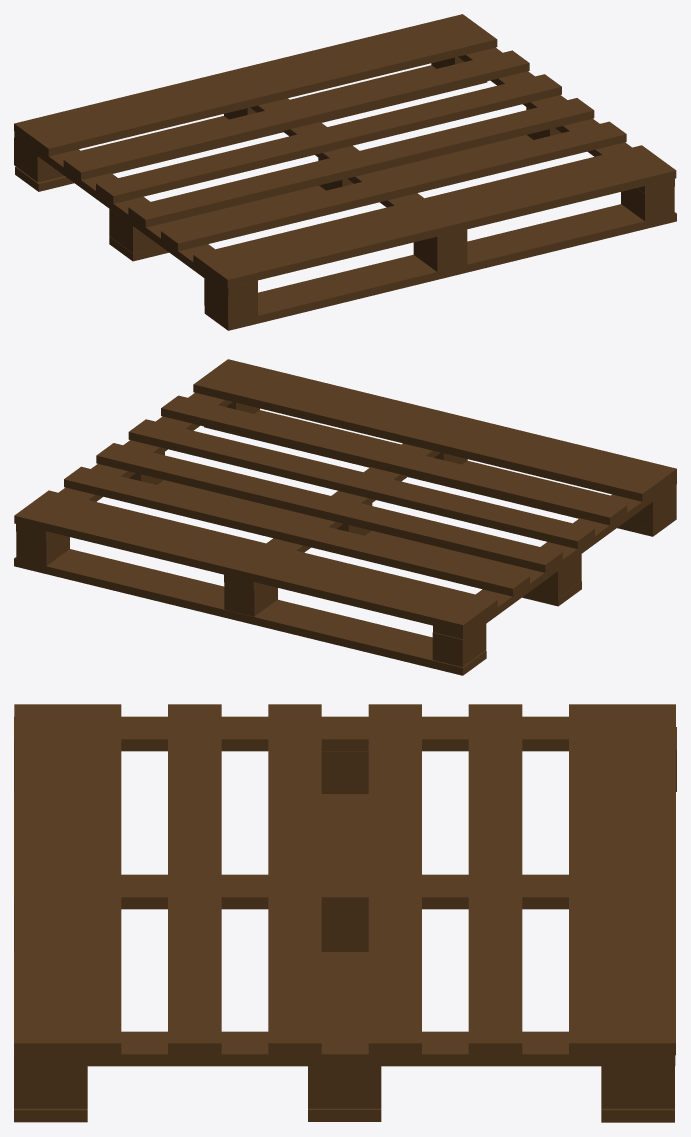
Rendered from pallet.glb.
The picture shows the model from 3 angles, top to bottom: view 1: azimuth 30°, elevation 25°; view 2: azimuth 150°, elevation 25°; view 3: azimuth 270°, elevation 25°; orthographic projection. The views are drawn at different scales.
Visible parts, largest first — view 1: Cube.009, Cube.006, Cube.001, Cube.005, Cube.003, Cube.004, Cube.002, Cube, Cube.007, Cube.008, Cube.022, Cube.010 (+7 smaller); view 2: Cube.022, Cube, Cube.003, Cube.007, Cube.002, Cube.004, Cube.005, Cube.006, Cube.001, Cube.008, Cube.009, Cube.010 (+7 smaller); view 3: Cube.005, Cube.001, Cube.002, Cube.003, Cube.007, Cube, Cube.004, Cube.006, Cube.012, Cube.010, Cube.008, Cube.011 (+7 smaller).
Part boxes in pixels (x1=…): Cube.009: x1=204, y1=204, x2=676, y2=330; Cube.006: x1=31, y1=27, x2=497, y2=156; Cube.001: x1=210, y1=158, x2=676, y2=287; Cube.005: x1=63, y1=50, x2=529, y2=180; Cube.003: x1=128, y1=98, x2=594, y2=227; Cube.004: x1=96, y1=74, x2=561, y2=203; Cube.002: x1=161, y1=121, x2=626, y2=251; Cube: x1=193, y1=145, x2=658, y2=274; Cube.007: x1=14, y1=14, x2=479, y2=143; Cube.008: x1=14, y1=132, x2=257, y2=295; Cube.022: x1=15, y1=65, x2=487, y2=191; Cube.010: x1=109, y1=135, x2=532, y2=261; Cube.022: x1=14, y1=549, x2=486, y2=675; Cube: x1=193, y1=372, x2=659, y2=501; Cube.003: x1=128, y1=419, x2=594, y2=548; Cube.007: x1=14, y1=503, x2=480, y2=632; Cube.002: x1=161, y1=395, x2=627, y2=525; Cube.004: x1=96, y1=443, x2=562, y2=572; Cube.005: x1=64, y1=466, x2=529, y2=596; Cube.006: x1=32, y1=490, x2=497, y2=619; Cube.001: x1=211, y1=359, x2=676, y2=488; Cube.008: x1=433, y1=477, x2=676, y2=640; Cube.009: x1=204, y1=410, x2=676, y2=536; Cube.010: x1=157, y1=480, x2=581, y2=606; Cube.005: x1=468, y1=704, x2=522, y2=1055; Cube.001: x1=14, y1=704, x2=67, y2=1055; Cube.002: x1=168, y1=704, x2=221, y2=1055; Cube.003: x1=268, y1=704, x2=321, y2=1055; Cube.007: x1=622, y1=704, x2=675, y2=1055; Cube: x1=68, y1=704, x2=121, y2=1055; Cube.004: x1=368, y1=704, x2=421, y2=1055; Cube.006: x1=569, y1=704, x2=622, y2=1055; Cube.012: x1=14, y1=1031, x2=675, y2=1066; Cube.010: x1=308, y1=794, x2=381, y2=1121; Cube.008: x1=14, y1=716, x2=568, y2=751; Cube.011: x1=14, y1=874, x2=568, y2=909.
Bounding box in the file's own units: 1.2 × 0.1303 × 0.9923.
